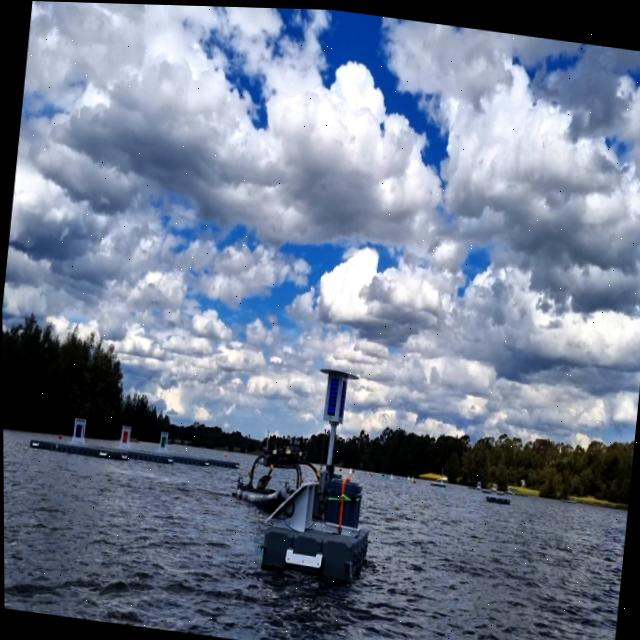led: (324, 372, 339, 417)
